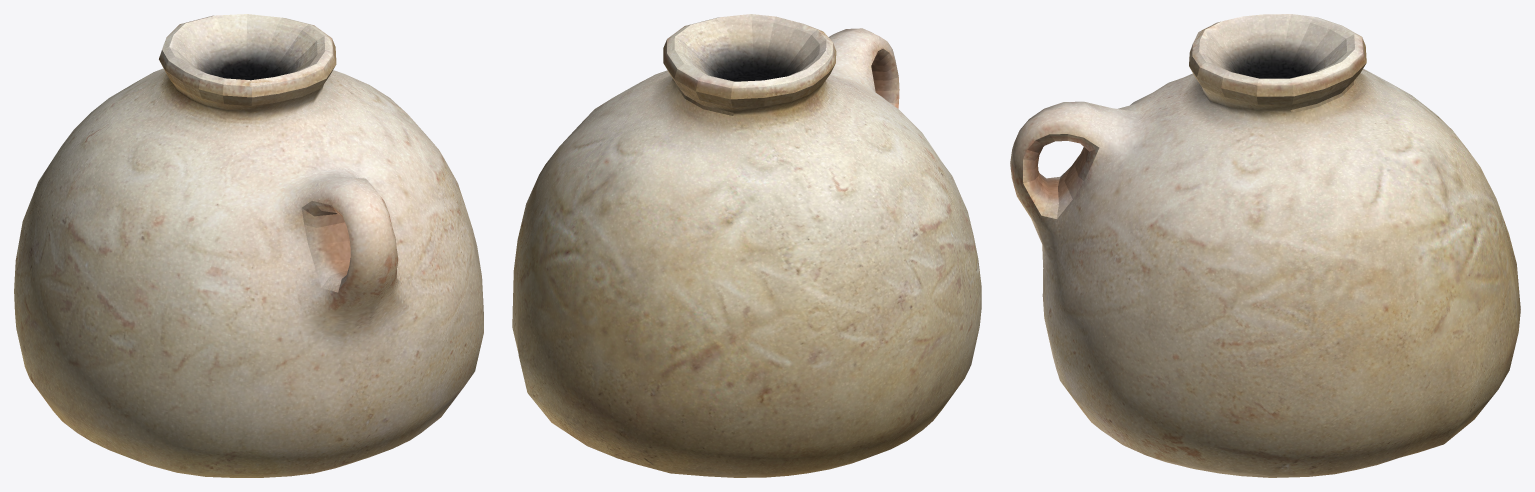
File: chimu3.obj
3 renders of one model, left to right at view 1: azimuth 30°, elevation 25°; view 2: azimuth 150°, elevation 25°; view 3: azimuth 270°, elevation 25°, orthographic.
Visible parts, largest first — view 1: Box001_Malla; view 2: Box001_Malla; view 3: Box001_Malla.
Part boxes in pixels (<box>): Box001_Malla: <box>14,14,483,477</box>; Box001_Malla: <box>512,14,981,477</box>; Box001_Malla: <box>1010,14,1520,477</box>.
Size of the model in its own units: 1.15 by 0.9736 by 1.25.
Materials: 1 (1 with a texture image).
